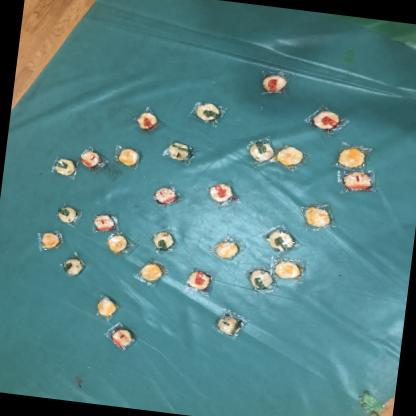green_setoshio: (258, 218, 302, 257), (208, 304, 249, 341), (186, 96, 228, 128), (162, 136, 198, 168), (243, 136, 276, 169), (45, 152, 81, 182), (54, 249, 88, 280), (244, 263, 276, 294), (147, 225, 179, 254), (51, 202, 81, 228)
red_setoshio: (331, 166, 382, 199), (300, 104, 348, 137), (202, 175, 242, 211), (102, 320, 140, 352), (145, 180, 183, 212), (255, 68, 292, 99), (182, 266, 216, 297), (130, 105, 162, 135), (88, 208, 122, 235), (77, 146, 108, 172)
yellow_setoshio: (132, 254, 174, 290), (206, 230, 248, 265), (299, 198, 339, 234), (266, 252, 310, 284), (332, 140, 372, 172), (270, 142, 310, 172), (109, 141, 144, 171), (100, 229, 136, 257), (32, 226, 66, 254), (91, 292, 123, 319)
